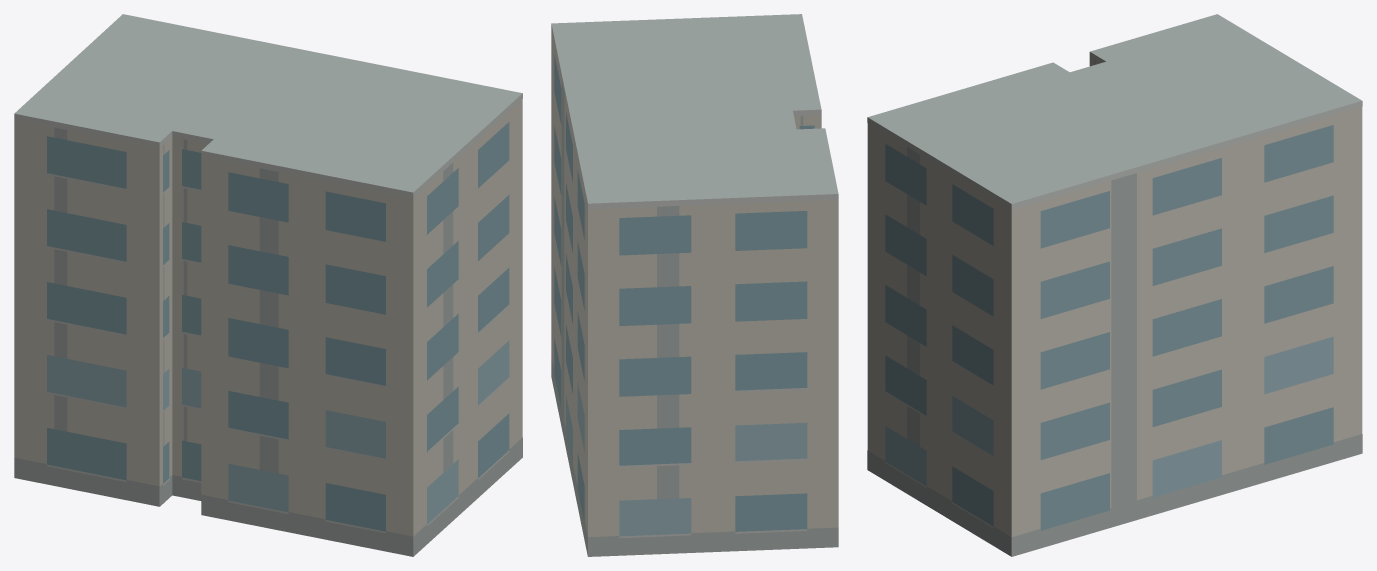
The model's file is survey-upis-32851494.glb.
3 views of the same model, side by side, from view 1: azimuth 30°, elevation 25°; view 2: azimuth 150°, elevation 25°; view 3: azimuth 270°, elevation 25° (orthographic). The views are drawn at different scales.
Parts seen in each view (by area): view 1: survey-upis-32851494.tmp; view 2: survey-upis-32851494.tmp; view 3: survey-upis-32851494.tmp.
Boxes of the visible parts, x1=… form: survey-upis-32851494.tmp: x1=14, y1=14, x2=522, y2=556; survey-upis-32851494.tmp: x1=551, y1=14, x2=838, y2=556; survey-upis-32851494.tmp: x1=867, y1=14, x2=1362, y2=556.
Bounding box in the file's own units: 17.23 × 14.9 × 18.95.
